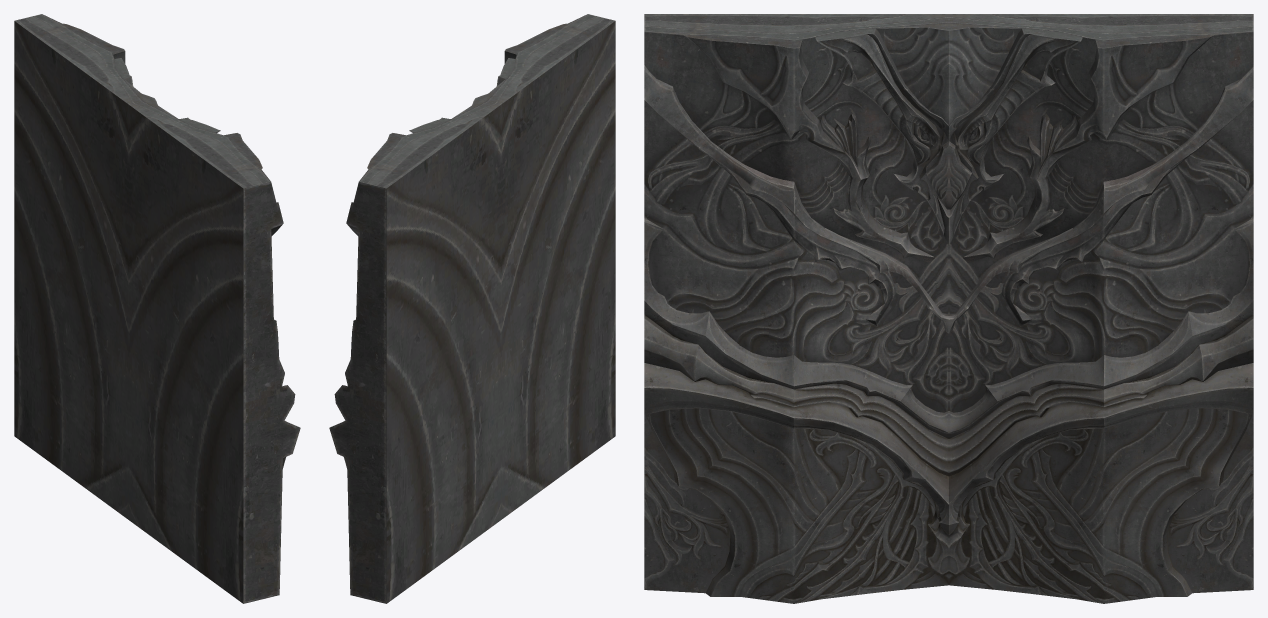
The model's file is bg_rad_kamen_wall01_sm_alchemy.obj.
The picture shows the model from 3 angles, left to right: view 1: azimuth 30°, elevation 25°; view 2: azimuth 150°, elevation 25°; view 3: azimuth 270°, elevation 25°; orthographic projection. The views are drawn at different scales.
Visible parts, largest first — view 1: bg_rad_kamen_wall01_sm_alchemy_1; view 2: bg_rad_kamen_wall01_sm_alchemy_1; view 3: bg_rad_kamen_wall01_sm_alchemy_0, bg_rad_kamen_wall01_sm_alchemy_1.
Boxes of the visible parts, bbox=[...] form: bg_rad_kamen_wall01_sm_alchemy_1: bbox=[14, 14, 300, 603]; bg_rad_kamen_wall01_sm_alchemy_1: bbox=[329, 14, 615, 603]; bg_rad_kamen_wall01_sm_alchemy_0: bbox=[644, 27, 1253, 412]; bg_rad_kamen_wall01_sm_alchemy_1: bbox=[644, 14, 1253, 603].
Size of the model in its own units: 0.9208 by 5.12 by 5.12.
2 materials, 2 textured.
